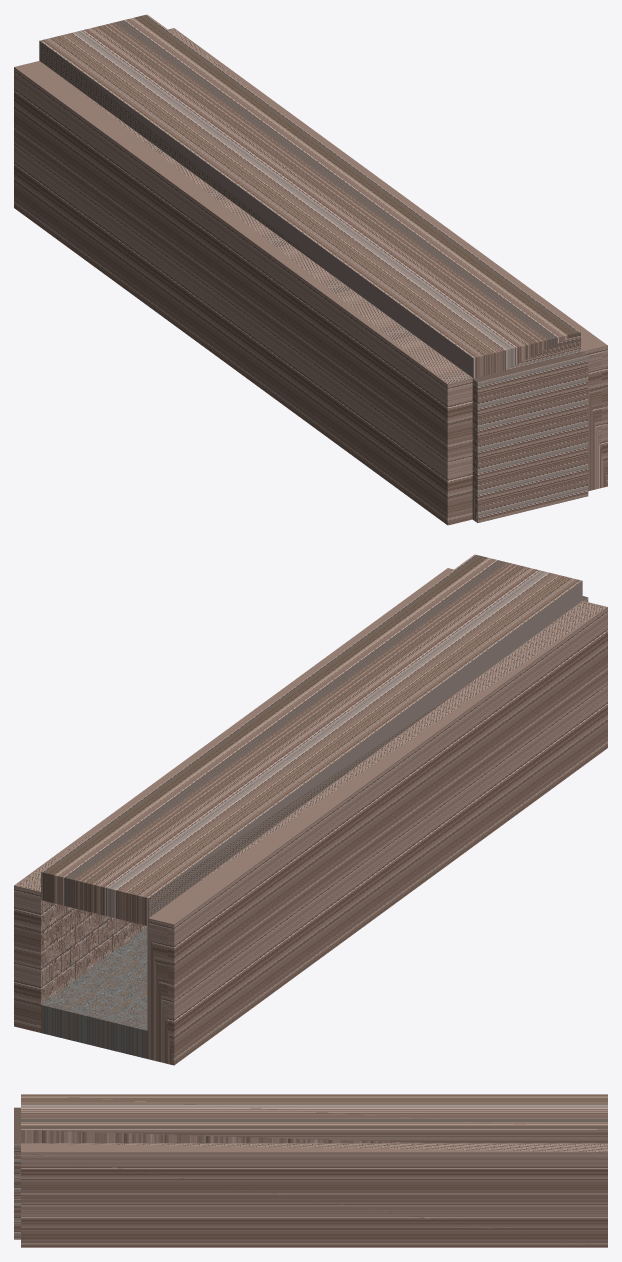
File: world.gltf
The picture shows the model from 3 angles, top to bottom: view 1: azimuth 30°, elevation 25°; view 2: azimuth 150°, elevation 25°; view 3: azimuth 270°, elevation 25°; orthographic projection. The views are drawn at different scales.
Visible parts, largest first — view 1: Cube.002, Cube.003, Cube.005, Cube.001; view 2: Cube.002, Cube.003, Cube.001, Cube.004; view 3: Cube.001, Cube.003, Cube.005.
Part boxes in pixels (x1,y1,x2,y2): Cube.002: [14, 61, 472, 525]; Cube.003: [39, 14, 580, 378]; Cube.005: [472, 351, 588, 522]; Cube.001: [168, 28, 607, 491]; Cube.002: [147, 601, 607, 1065]; Cube.003: [41, 554, 582, 926]; Cube.001: [14, 568, 453, 1032]; Cube.004: [41, 927, 148, 1059]; Cube.001: [21, 1143, 607, 1247]; Cube.003: [21, 1094, 607, 1143]; Cube.005: [14, 1107, 20, 1239].
Bounding box in the file's own units: 10 × 9.61 × 47.45.
5 materials, 5 textured.
